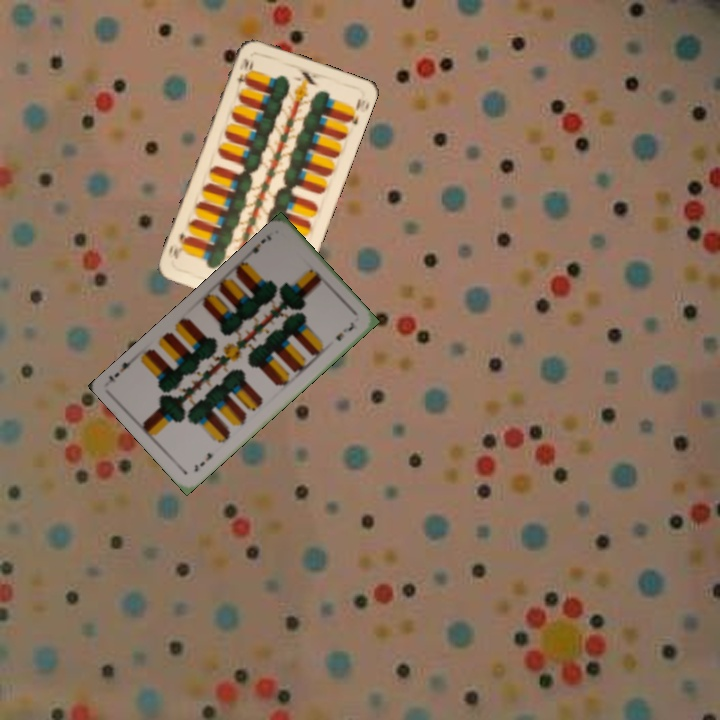E10: (234, 54, 251, 87)
E7: (244, 231, 274, 259), (190, 449, 215, 475)
